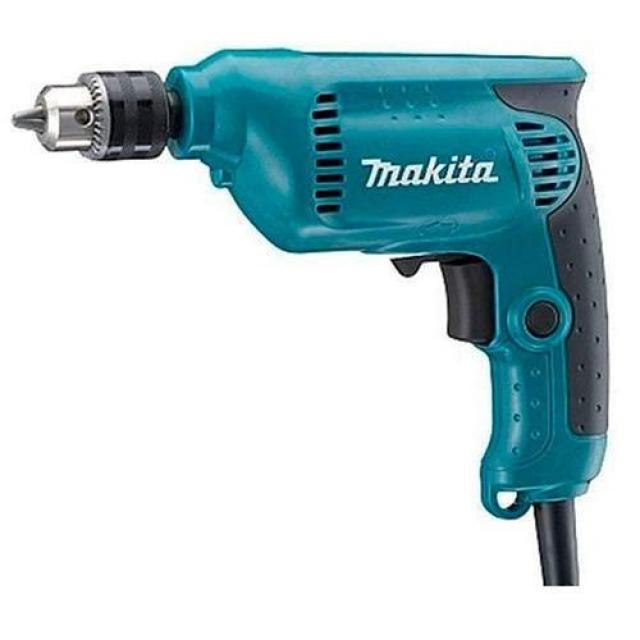drill: (11, 48, 612, 586)
